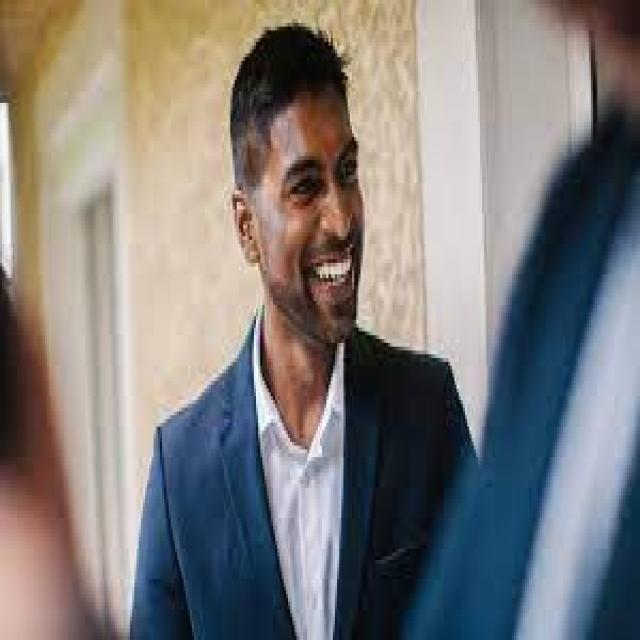happy: (241, 46, 383, 362)
